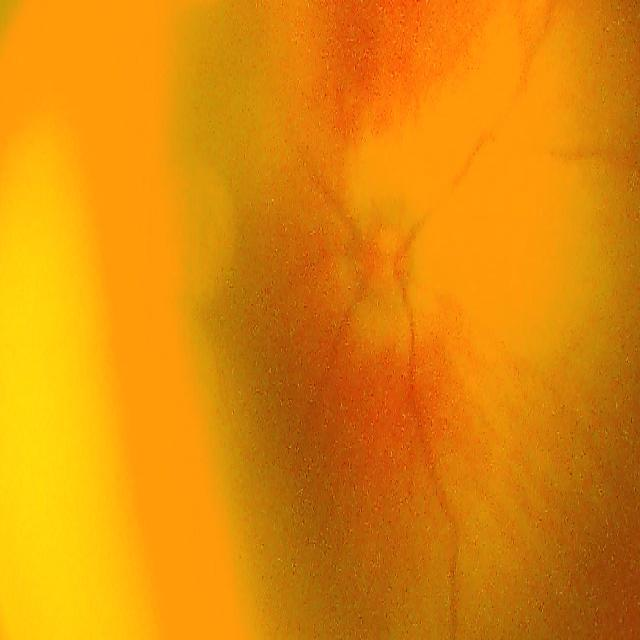optic-nerve: (349, 188, 422, 314)
